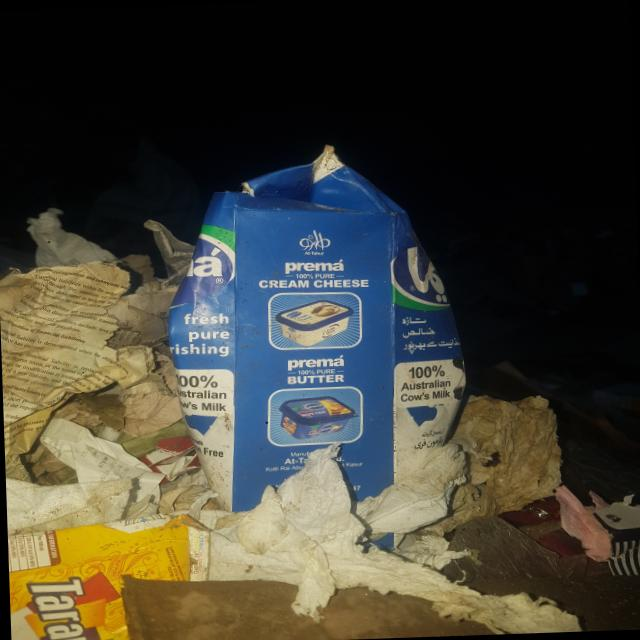electronic: (160, 138, 473, 546), (0, 211, 149, 474)
